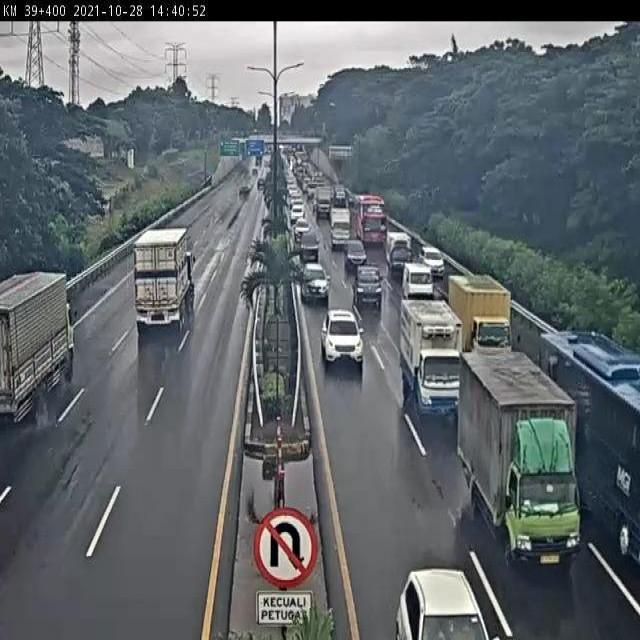car: (321, 309, 366, 371), (402, 261, 437, 299), (301, 261, 330, 303), (354, 267, 384, 307), (418, 243, 447, 277), (345, 239, 367, 269)
truck: (458, 348, 583, 569), (0, 269, 77, 423), (398, 297, 460, 412), (134, 225, 194, 331), (451, 274, 515, 350), (385, 232, 411, 276)
